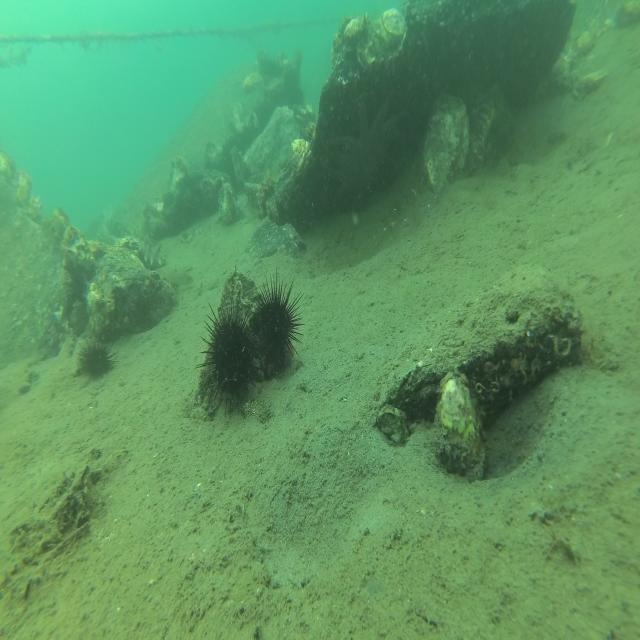echinus: (194, 290, 266, 416), (250, 265, 307, 360), (75, 334, 119, 380), (269, 52, 282, 79)
holothurian: (111, 228, 168, 269)
starfish: (318, 88, 406, 207)
